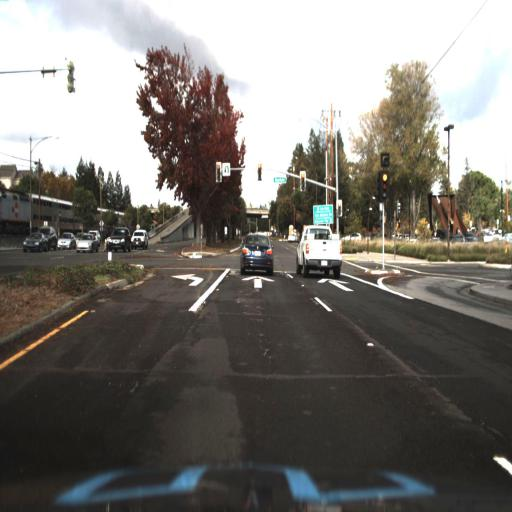car: (297, 220, 344, 277), (237, 229, 271, 271), (23, 229, 49, 258), (107, 224, 129, 256), (22, 228, 48, 254), (106, 228, 127, 255), (75, 230, 96, 256), (129, 226, 149, 250), (74, 230, 95, 252), (130, 226, 149, 248), (46, 226, 60, 252), (57, 230, 73, 252), (342, 228, 364, 240), (47, 224, 55, 255), (59, 232, 74, 247)
trafficLight-Red: (380, 171, 389, 198), (213, 160, 223, 184), (380, 172, 388, 200), (253, 157, 266, 174), (298, 169, 308, 189), (299, 169, 307, 188), (256, 160, 263, 179)
trafficLight-RedLeft: (214, 161, 225, 184)
